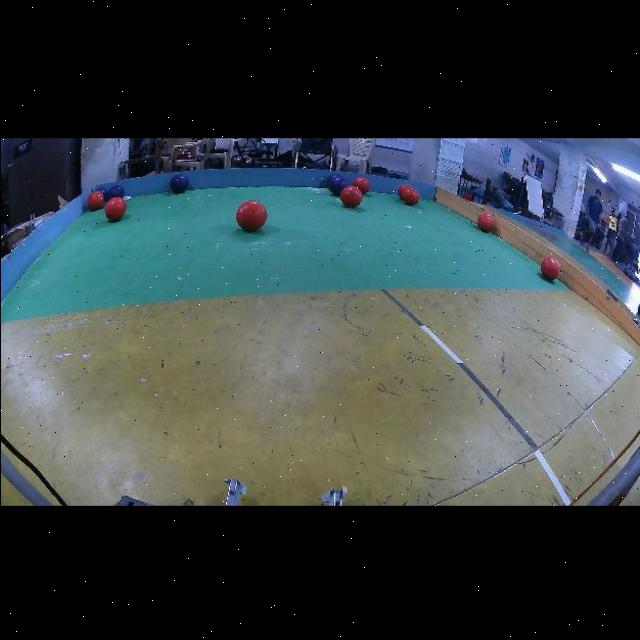P: (169, 173, 188, 192), (328, 177, 347, 195), (107, 185, 123, 199), (325, 173, 340, 185), (94, 186, 107, 198), (637, 302, 640, 316)
R: (234, 200, 266, 231), (104, 196, 126, 220), (339, 185, 361, 208), (540, 256, 559, 279), (86, 190, 104, 210), (351, 176, 370, 193), (401, 187, 418, 205), (476, 213, 493, 231), (397, 183, 411, 197)
